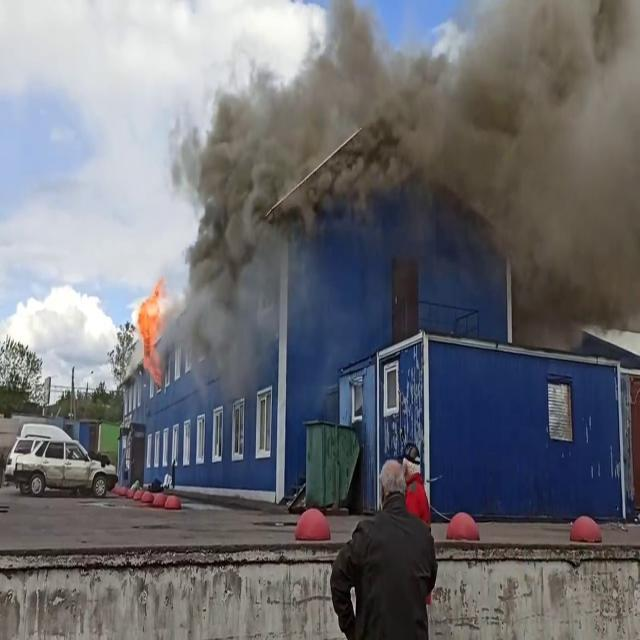Fire: (129, 282, 169, 380)
Smoke: (166, 0, 640, 342)
